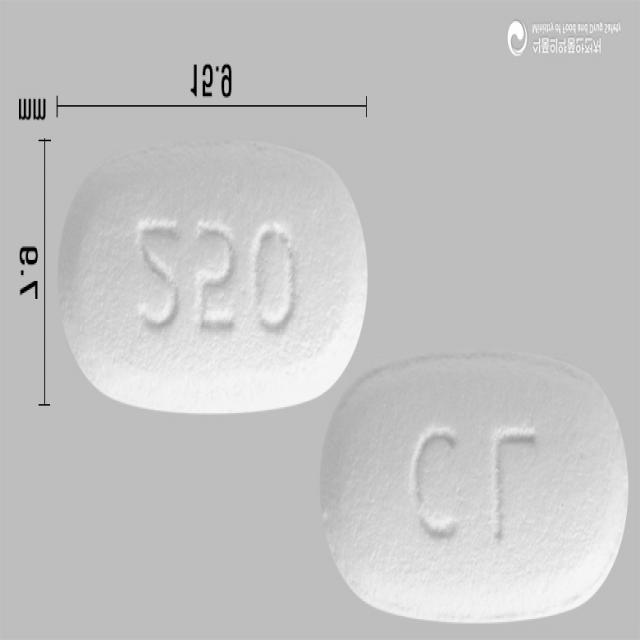Bydoxy: (322, 349, 630, 626), (59, 143, 368, 414)
